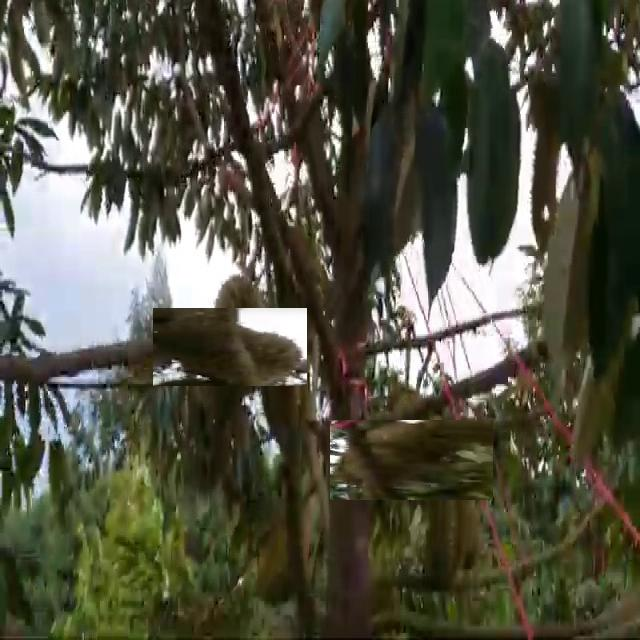durian: (351, 399, 473, 521), (171, 289, 288, 405)
